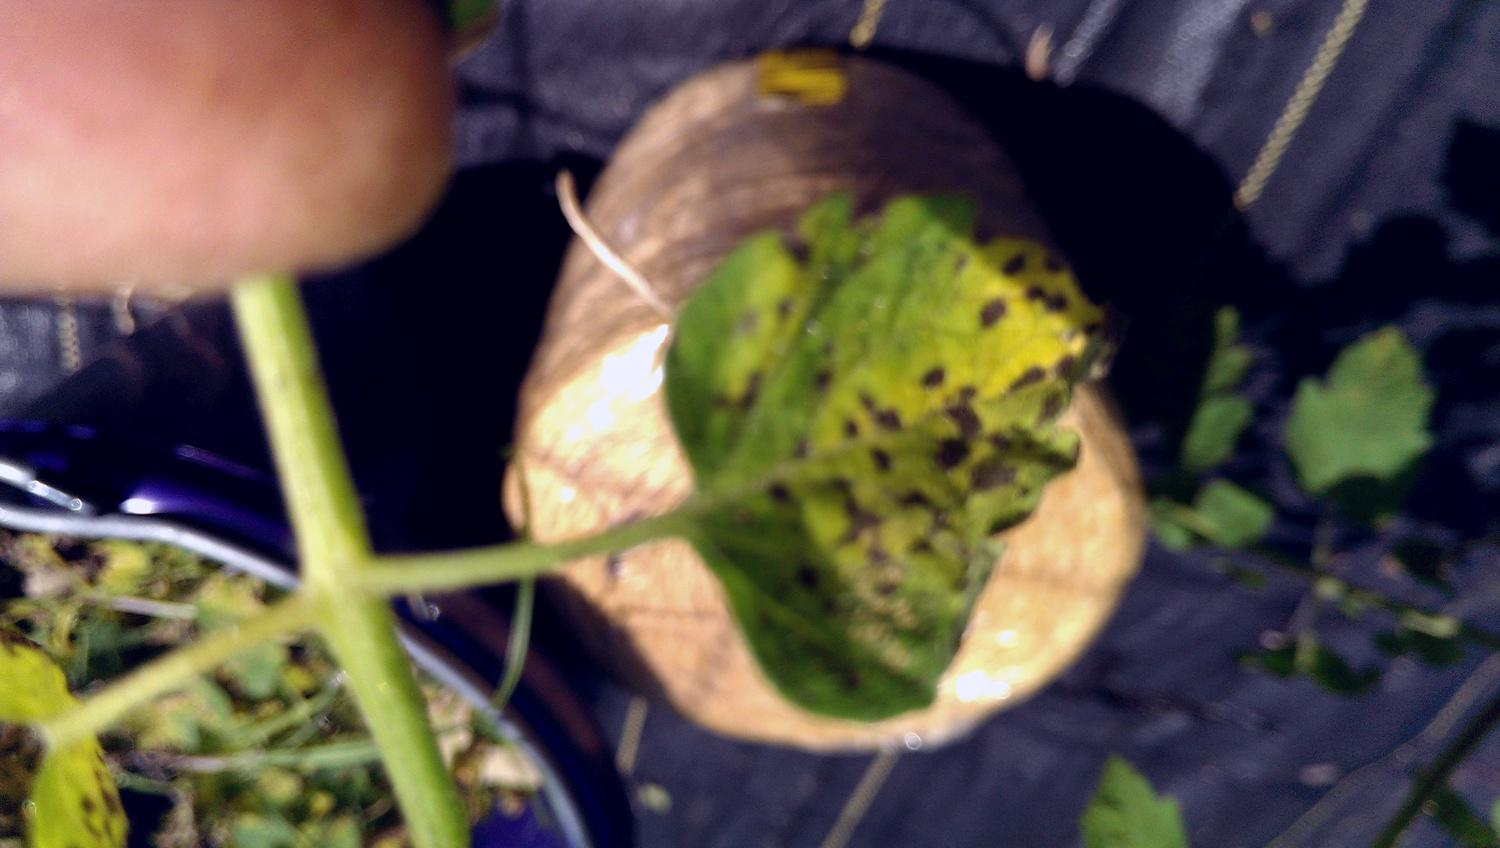Tomato Septoria leaf spot: (626, 130, 1134, 733)
